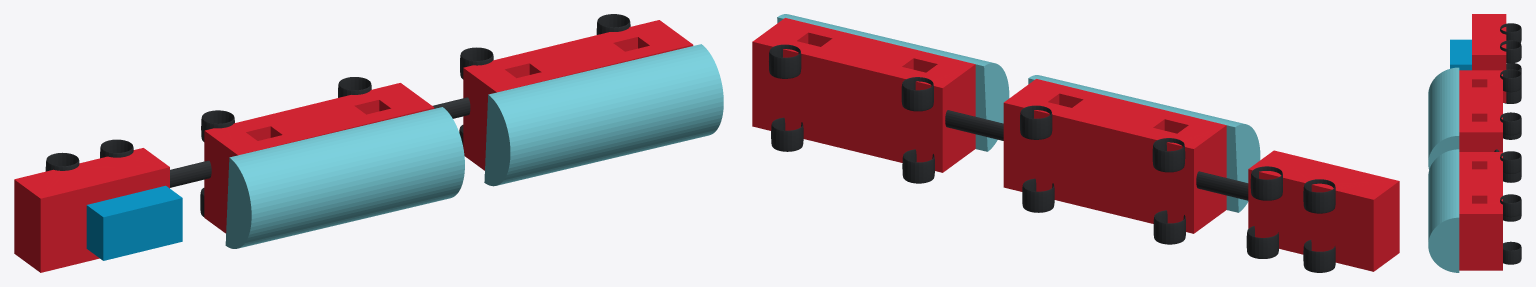
File: tinker.obj
3 renders of one model, left to right at view 1: azimuth 30°, elevation 25°; view 2: azimuth 150°, elevation 25°; view 3: azimuth 270°, elevation 25°, orthographic. The views are drawn at different scales.
Visible parts, largest first — view 1: group_0_7720667, group_0_15277357, group_0_40919, group_0_2829873; view 2: group_0_15277357, group_0_2829873, group_0_7720667; view 3: group_0_15277357, group_0_7720667, group_0_2829873, group_0_40919.
Part boxes in pixels (left/top/right/bottom): group_0_7720667: left=225, top=44, right=723, bottom=248; group_0_15277357: left=14, top=20, right=693, bottom=272; group_0_40919: left=86, top=185, right=182, bottom=260; group_0_2829873: left=45, top=14, right=630, bottom=216; group_0_15277357: left=752, top=18, right=1399, bottom=271; group_0_2829873: left=769, top=44, right=1335, bottom=272; group_0_7720667: left=777, top=14, right=1260, bottom=212; group_0_15277357: left=1459, top=14, right=1506, bottom=270; group_0_7720667: left=1428, top=67, right=1459, bottom=272; group_0_2829873: left=1494, top=23, right=1521, bottom=264; group_0_40919: left=1450, top=39, right=1471, bottom=70.
Bounding box in the file's own units: 156 × 22.13 × 30.
